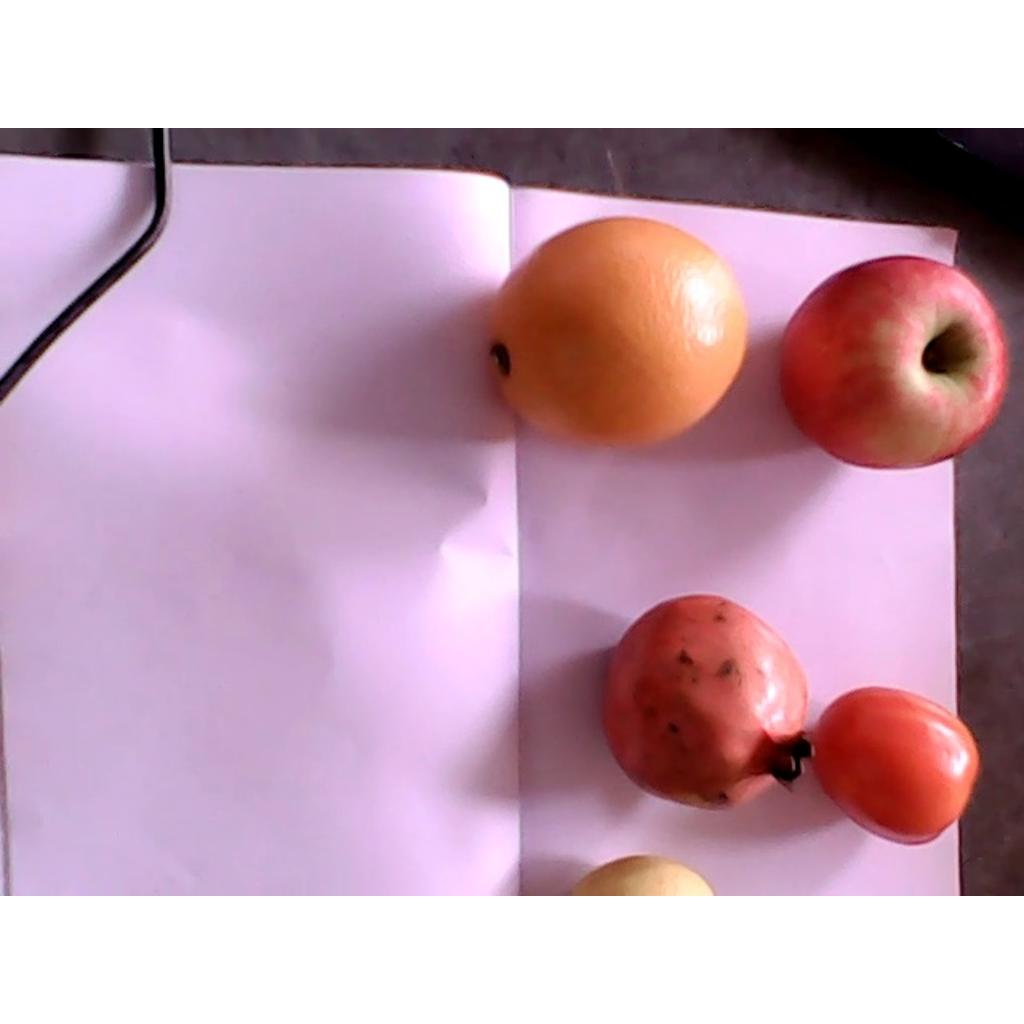apple: (779, 258, 1008, 467)
lemon: (567, 859, 714, 894)
orange: (488, 219, 747, 446)
pomegranate: (602, 595, 820, 809)
tomato: (810, 689, 979, 845)
